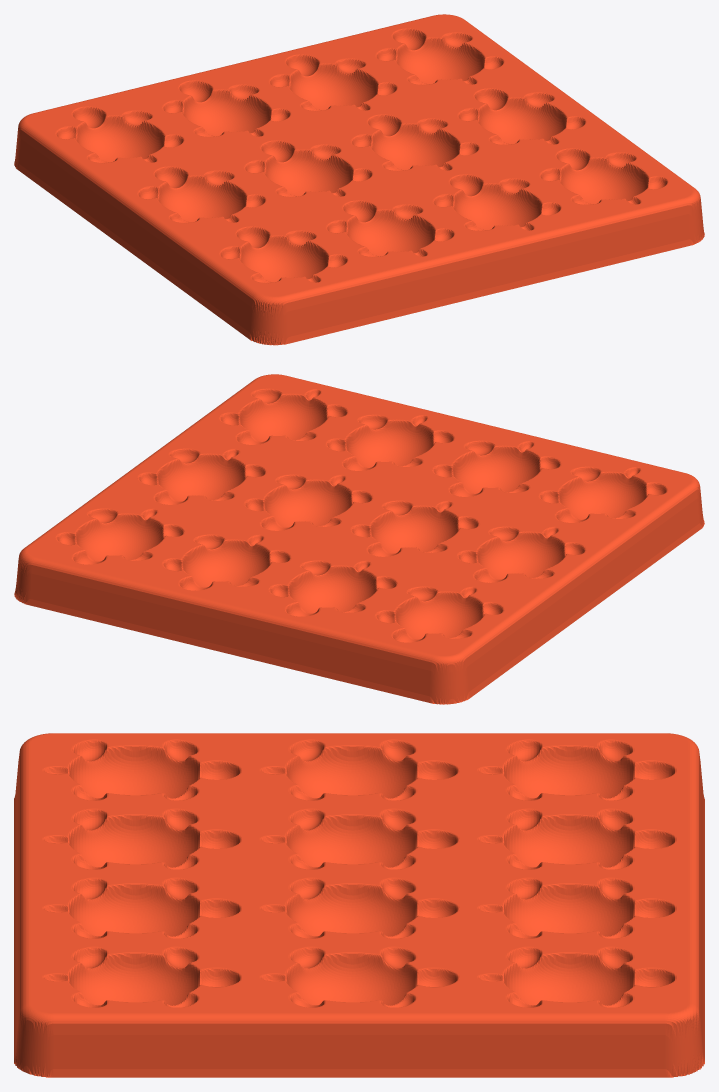
Rendered from mold.glb.
The picture shows the model from 3 angles, top to bottom: view 1: azimuth 30°, elevation 25°; view 2: azimuth 150°, elevation 25°; view 3: azimuth 270°, elevation 25°; orthographic projection. The views are drawn at different scales.
Parts seen in each view (by area): view 1: geometry_0; view 2: geometry_0; view 3: geometry_0.
Boxes of the visible parts, x1,y1,x2,y2 form: geometry_0: (14,14,704,345); geometry_0: (14,374,704,704); geometry_0: (14,733,704,1077).
Size of the model in its own units: 0.1578 by 0.0145 by 0.1575.
